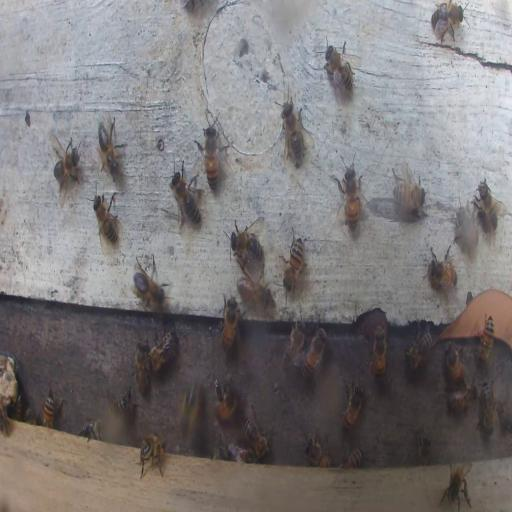nonpollenbee: (50, 131, 82, 199), (278, 86, 306, 163), (170, 160, 202, 226), (322, 38, 355, 100), (472, 174, 504, 233), (97, 116, 127, 176), (440, 460, 474, 512), (132, 262, 169, 309), (392, 169, 427, 214), (93, 188, 120, 246), (430, 1, 466, 42), (282, 230, 305, 294), (229, 222, 263, 264), (302, 325, 327, 379), (404, 324, 433, 369), (454, 206, 482, 252), (238, 276, 272, 313), (341, 380, 365, 432), (148, 327, 177, 369), (243, 418, 272, 459), (138, 433, 165, 477), (343, 160, 359, 230), (214, 380, 238, 426), (202, 126, 219, 190), (428, 255, 458, 291), (221, 294, 239, 352), (284, 322, 305, 370), (444, 342, 467, 385), (134, 338, 150, 396), (304, 434, 332, 467), (479, 381, 495, 435), (447, 384, 476, 413), (372, 326, 386, 379), (478, 316, 494, 362), (42, 387, 58, 429), (110, 385, 133, 412), (338, 447, 362, 470), (416, 430, 431, 465), (79, 420, 105, 440), (213, 438, 232, 458), (12, 398, 25, 420), (0, 400, 8, 432), (236, 449, 254, 462), (25, 404, 34, 423)
pollenbee: (176, 375, 201, 447)
